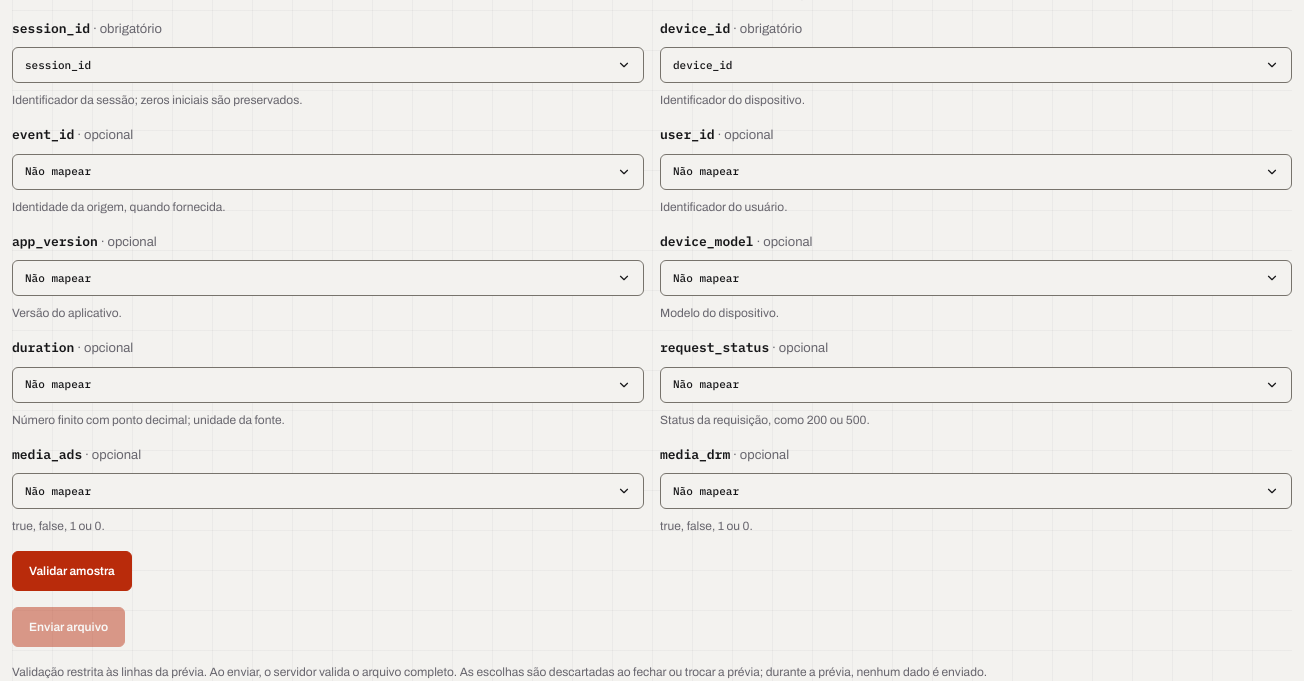
Test case: formulário de mapeamento › a escolha manual invalida a aprovação e informa coluna reutilizada
(page scrolled)
Click the button "Validar amostra" at (72, 571), box [12,551,132,591]
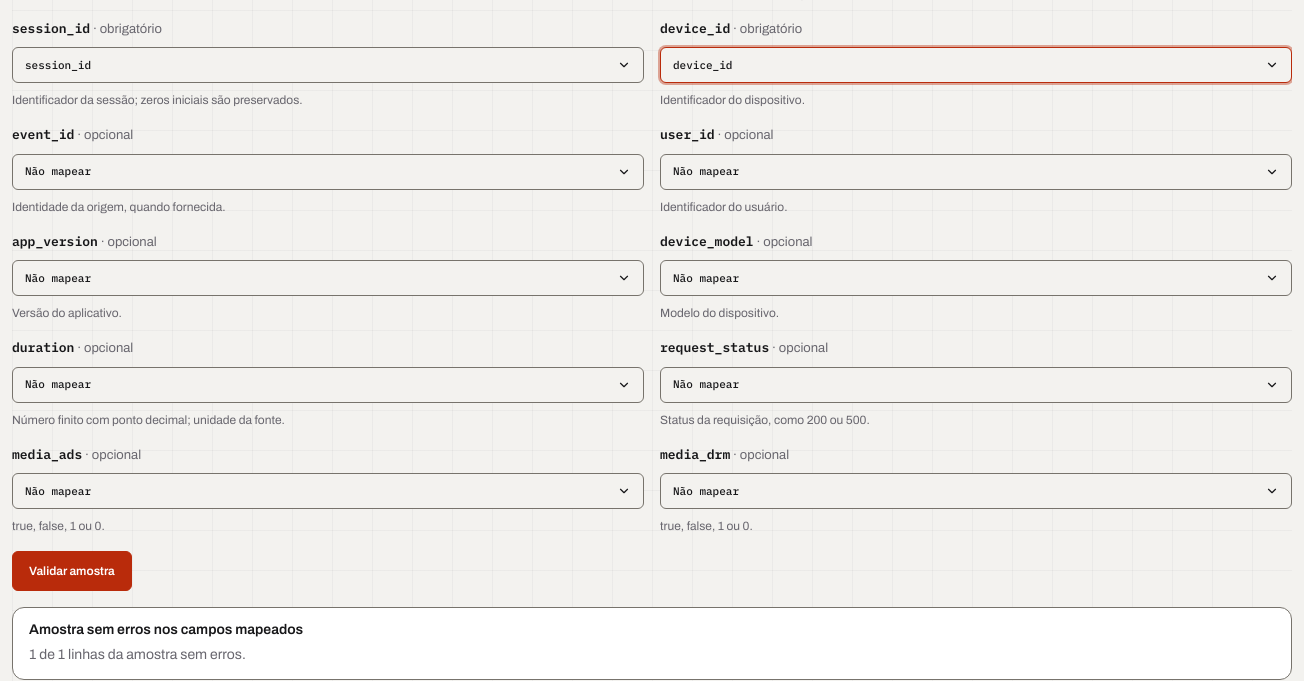
Type keys "[Enter]"
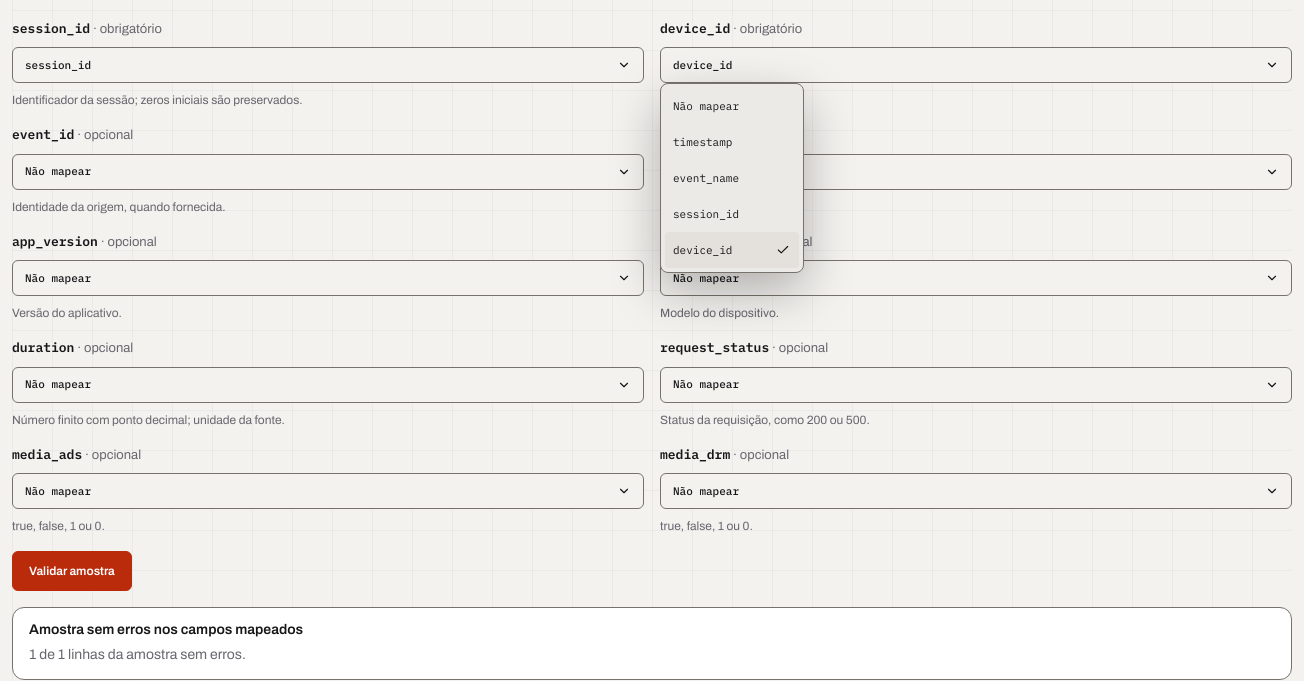
Click the option "session_id" at (706, 214), box [673,207,739,221]
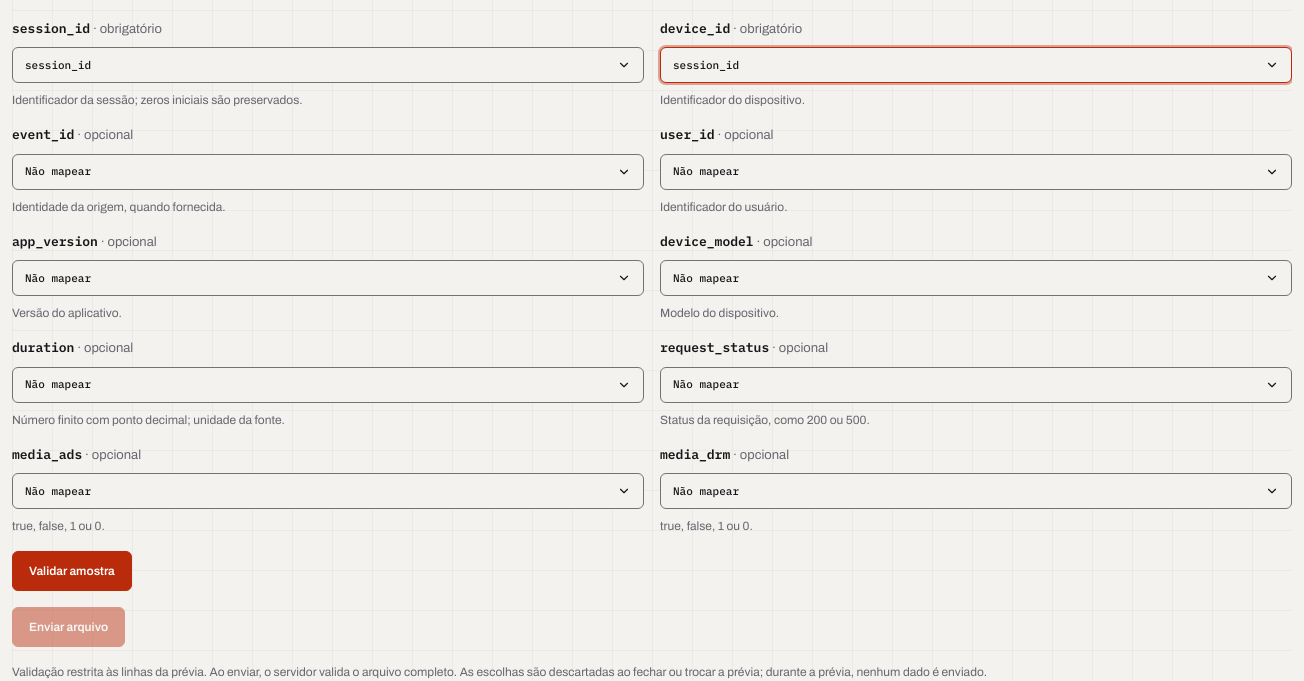
Expected: the message "Amostra sem erros nos campos mapeados 1 de 1 linhas da amostra sem erros." is gone
Click the button "Validar amostra" at (72, 571), box [12,551,132,591]
(page scrolled)
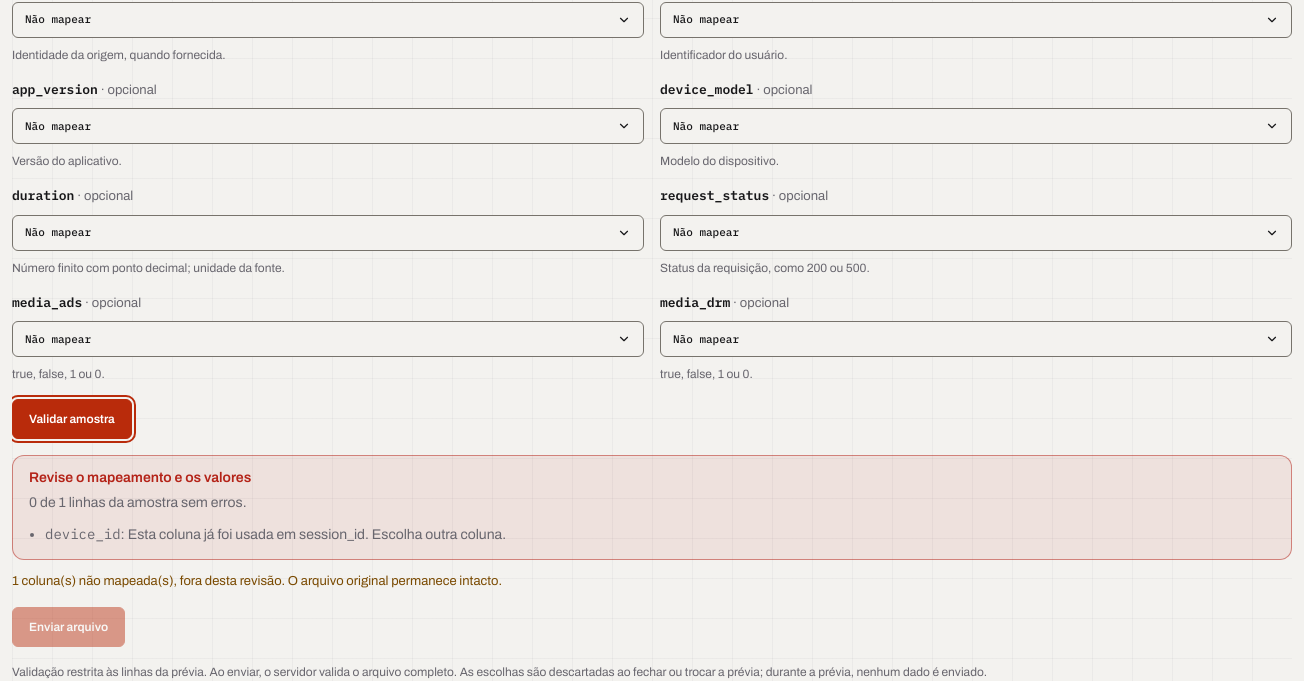
Expected: the message shows "já foi usada em session_id", [128,527,506,542]
